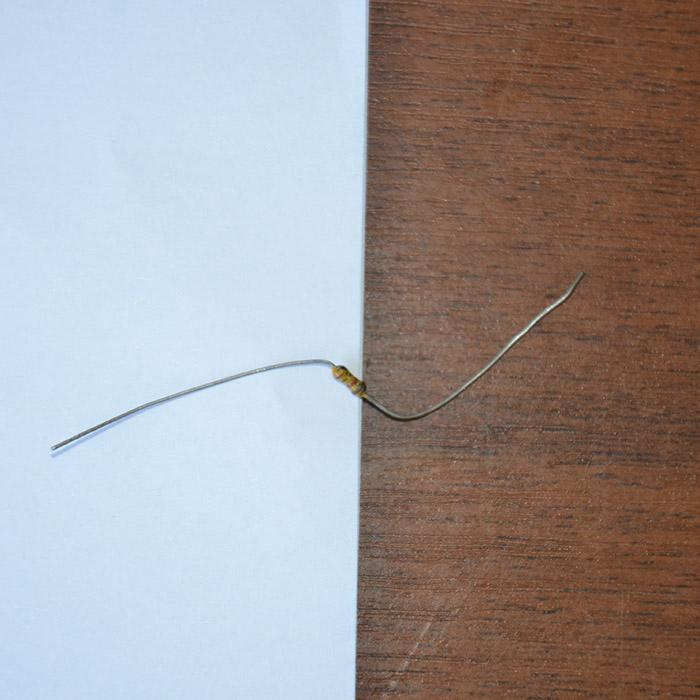resistor: (330, 361, 373, 404)
